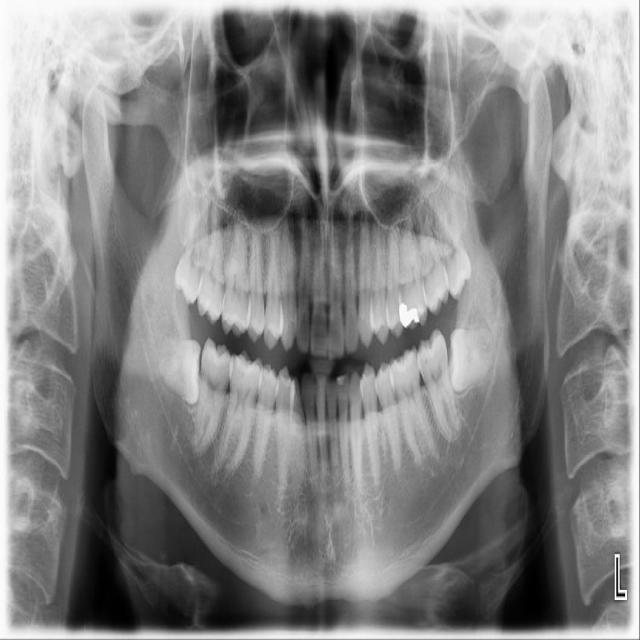Filling: (399, 299, 421, 329)
impacted tooth: (431, 205, 471, 299), (155, 334, 200, 402), (175, 214, 209, 304), (451, 329, 498, 392)
